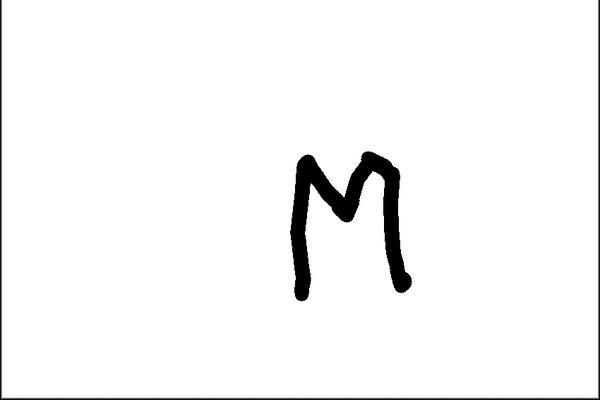M: (287, 147, 414, 297)
